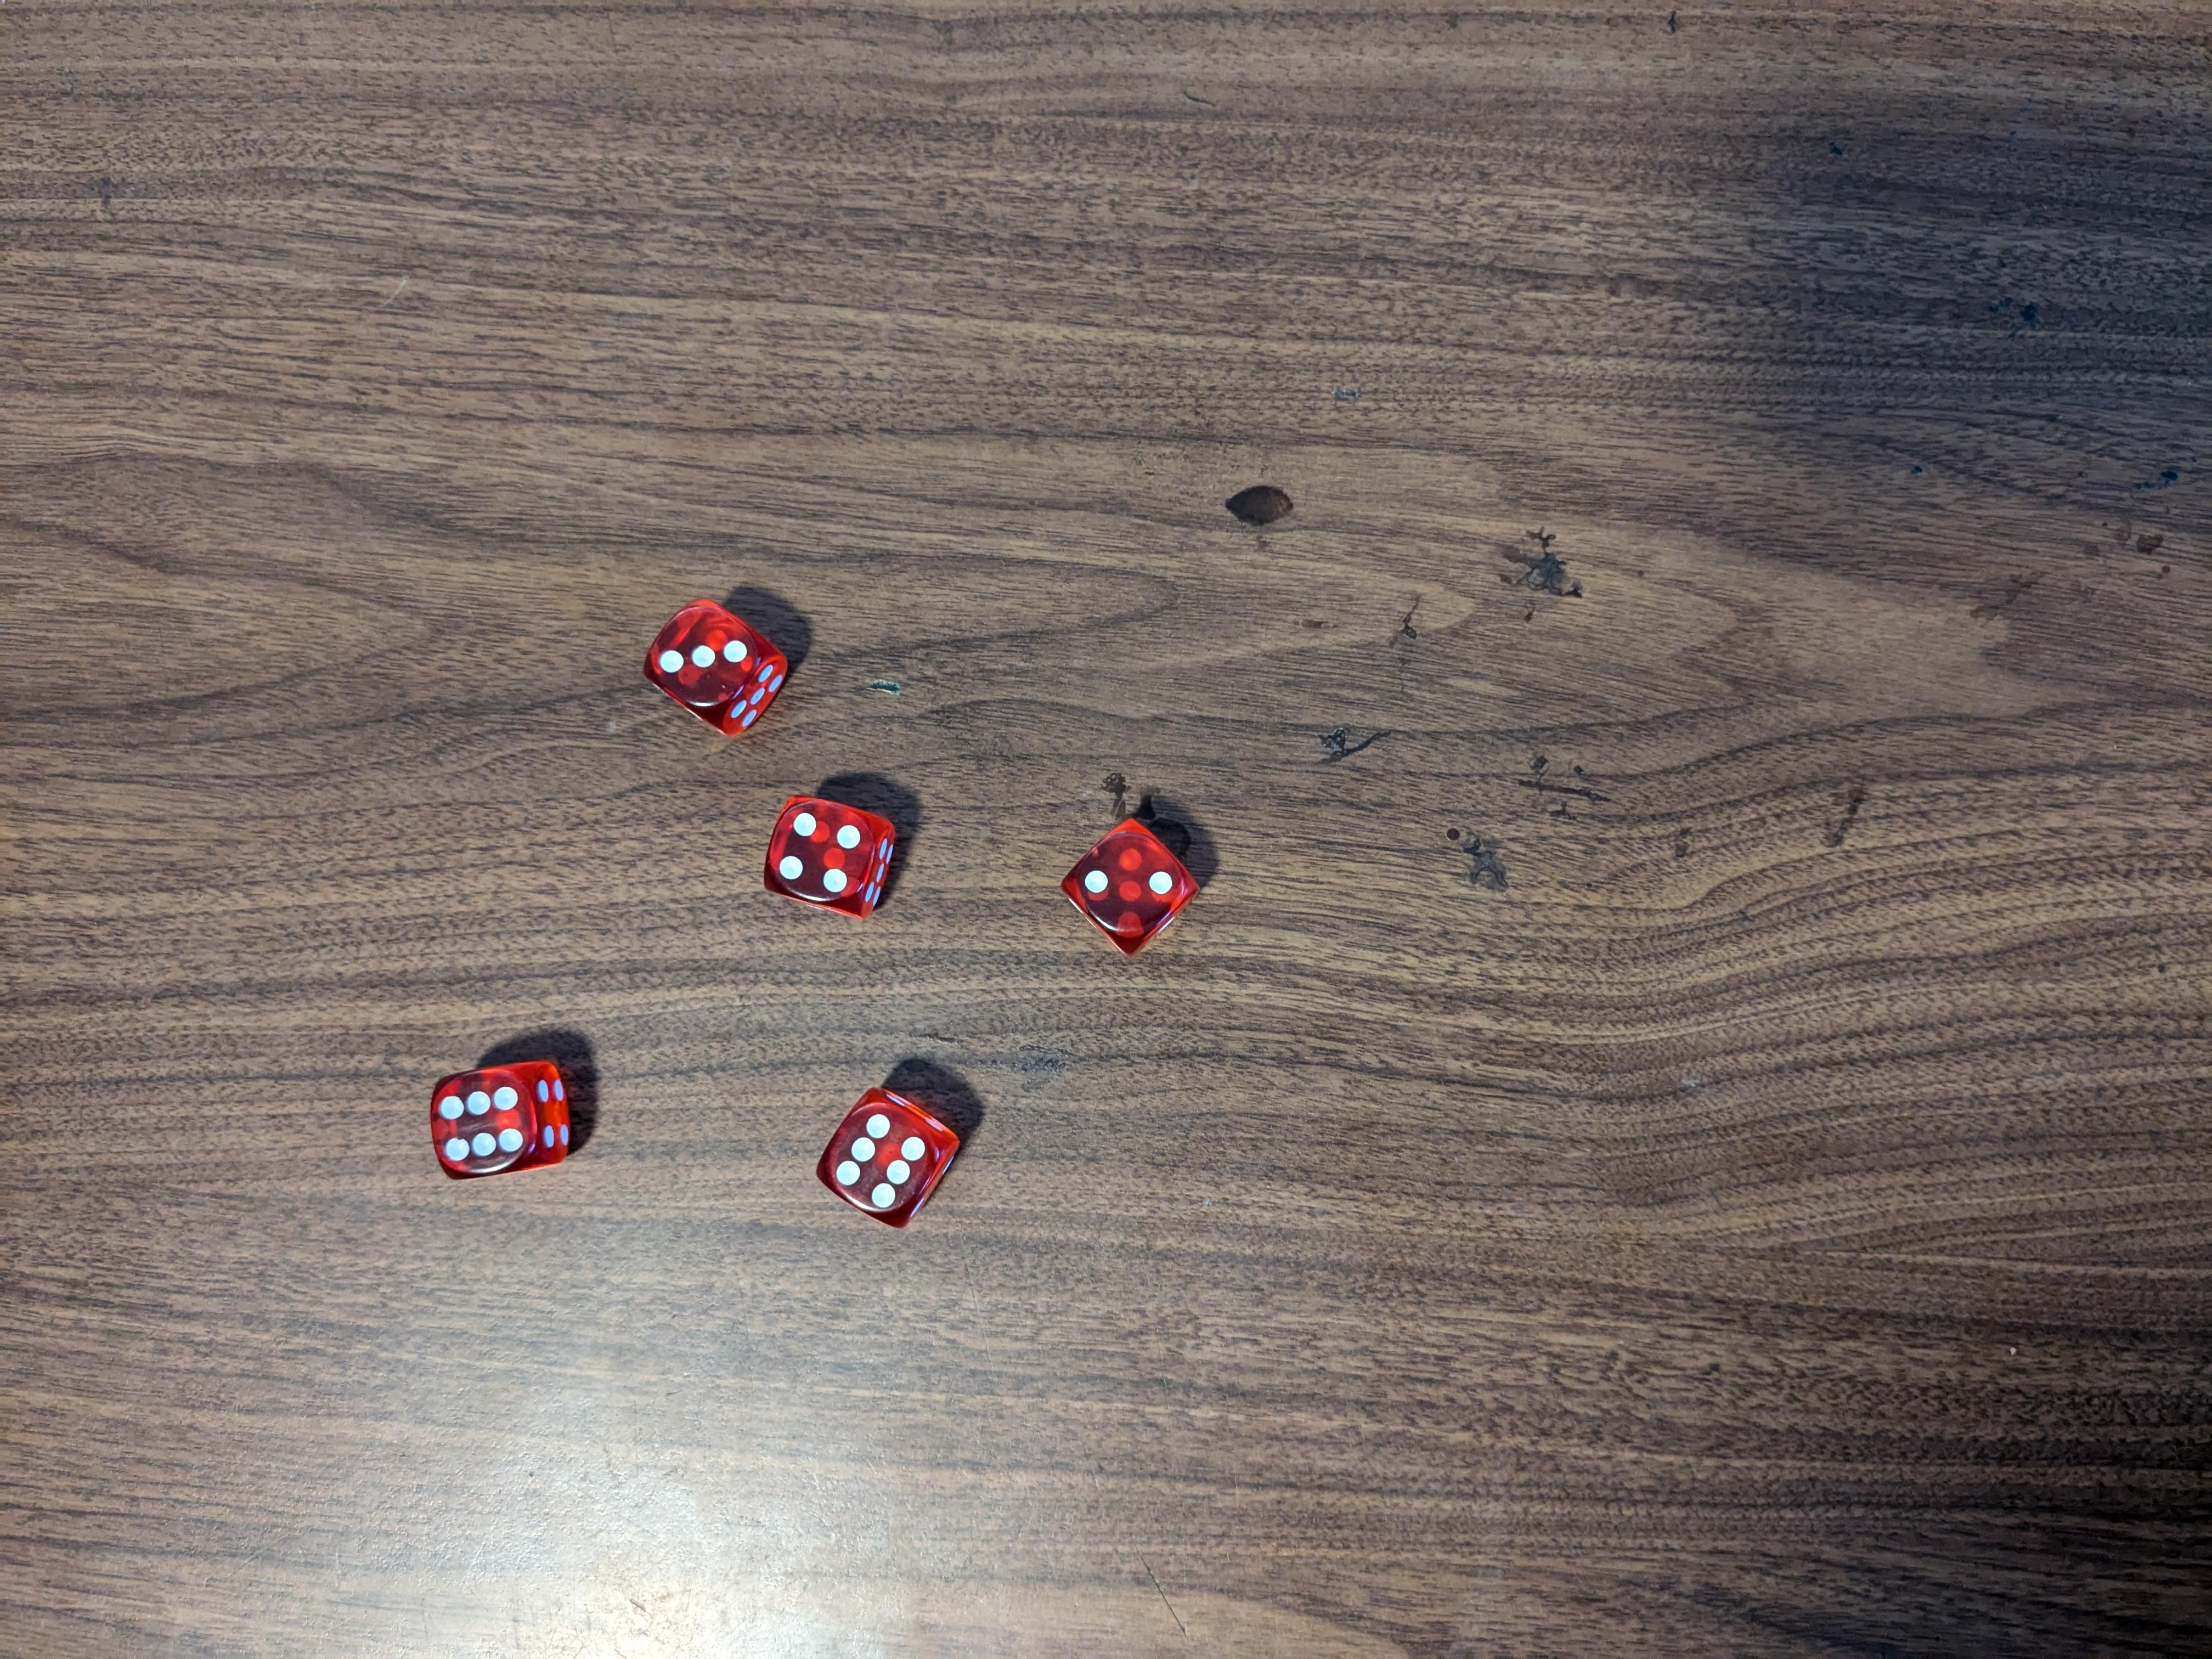four: (756, 789, 899, 913)
six: (812, 1080, 958, 1225), (432, 1056, 577, 1180)
three: (646, 594, 789, 735)
two: (1054, 816, 1207, 976)
